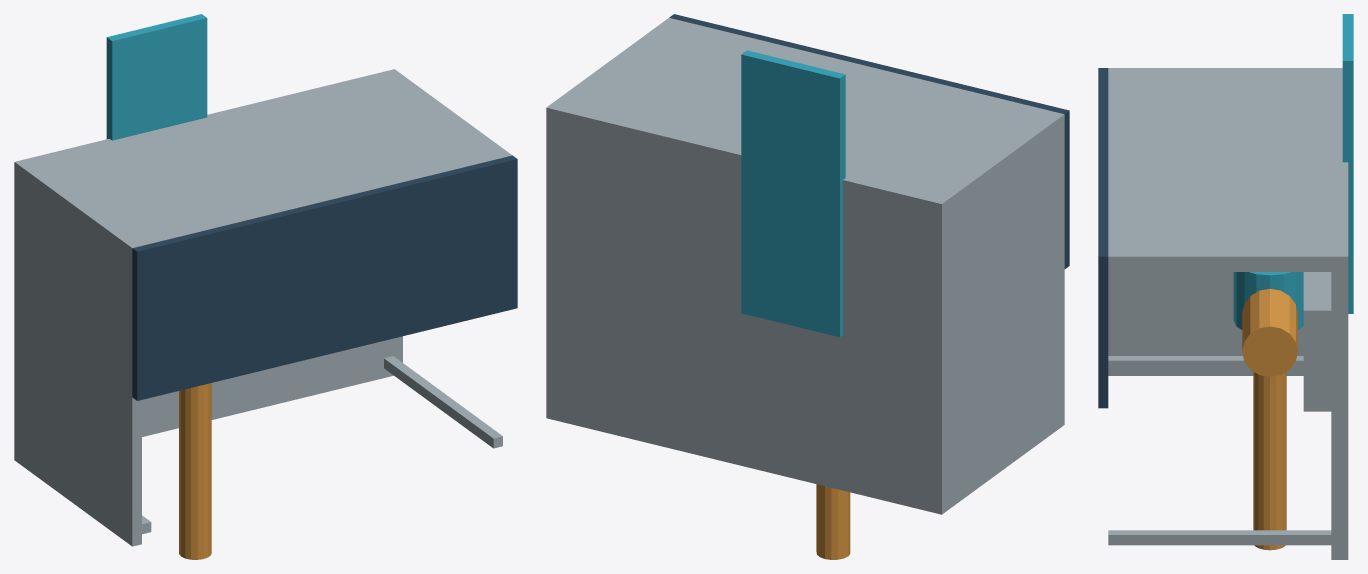
Rendered from casa_de_maquinas.obj.
3 renders of one model, left to right at view 1: azimuth 30°, elevation 25°; view 2: azimuth 150°, elevation 25°; view 3: azimuth 270°, elevation 25°, orthographic. The views are drawn at different scales.
Visible parts, largest first — view 1: Cubierta_parcial, Muro_posterior, Muro_lateral, Losa, Canal_retorno, Entrada_presion, Columna; view 2: Losa, Muro_lateral, Muro_posterior, Canal_retorno, Cubierta_parcial, Entrada_presion; view 3: Muro_posterior, Muro_lateral, Losa, Columna, Entrada_presion, Generador_simbolico, Bancada, Cubierta_parcial, Canal_retorno, Turbina_simbolica.
Boxes of the visible parts, box(x1,y1,x2,y2) form: Cubierta_parcial: box(132, 155, 517, 400); Muro_posterior: box(22, 75, 512, 257); Muro_lateral: box(22, 167, 141, 546); Losa: box(14, 69, 402, 465); Canal_retorno: box(106, 14, 207, 140); Entrada_presion: box(179, 383, 211, 559); Columna: box(142, 356, 502, 534); Losa: box(546, 101, 950, 514); Muro_lateral: box(941, 112, 1064, 508); Muro_posterior: box(555, 18, 1064, 207); Canal_retorno: box(741, 50, 845, 337); Cubierta_parcial: box(669, 14, 1069, 268); Entrada_presion: box(816, 484, 850, 559); Muro_posterior: box(1108, 68, 1331, 266); Muro_lateral: box(1108, 68, 1331, 375); Losa: box(1331, 68, 1348, 559); Columna: box(1108, 266, 1331, 545); Entrada_presion: box(1253, 371, 1286, 550); Generador_simbolico: box(1242, 288, 1297, 376); Bancada: box(1303, 272, 1331, 411); Cubierta_parcial: box(1098, 68, 1108, 408); Canal_retorno: box(1342, 14, 1353, 313); Turbina_simbolica: box(1233, 272, 1303, 329).
Bounding box in the file's own units: 8 × 10 × 4.58.
